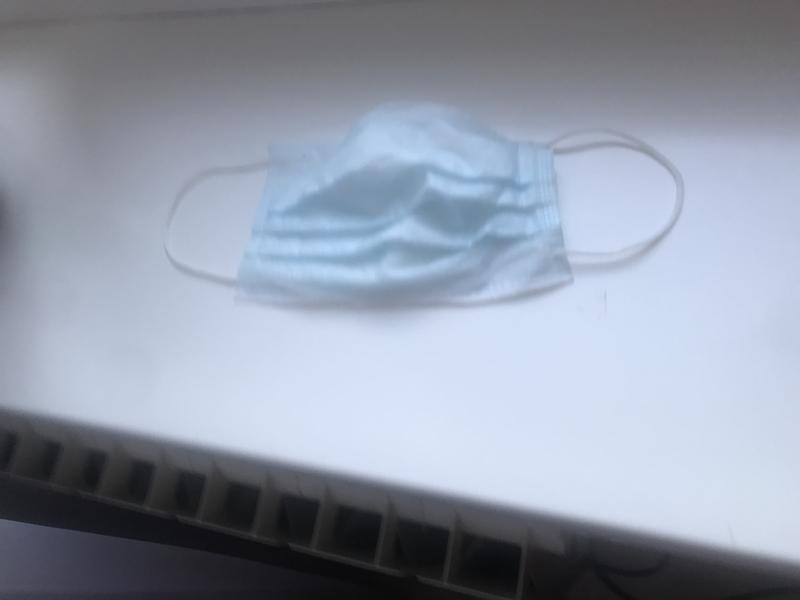medical_mask: (164, 109, 687, 299)
